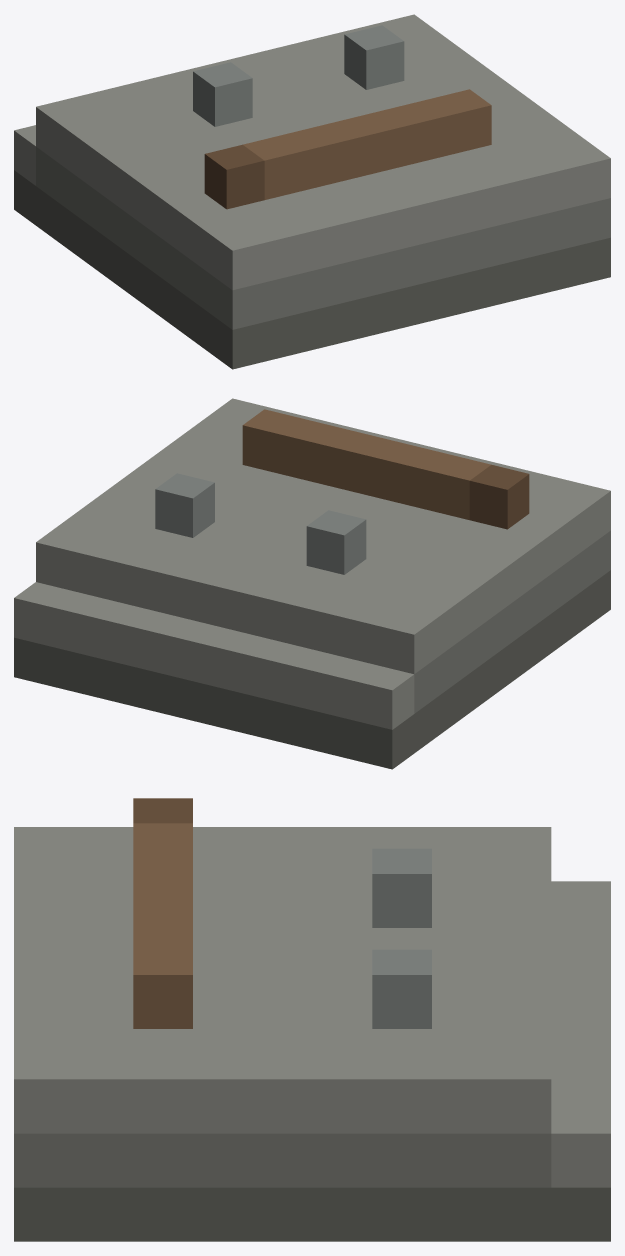
Rendered from Claude_concrete_foundation.glb.
3 renders of one model, top to bottom at view 1: azimuth 30°, elevation 25°; view 2: azimuth 150°, elevation 25°; view 3: azimuth 270°, elevation 25°, orthographic. The views are drawn at different scales.
Parts seen in each view (by area): view 1: Claude_concrete_foundation; view 2: Claude_concrete_foundation; view 3: Claude_concrete_foundation.
Boxes of the visible parts, <box> form: Claude_concrete_foundation: <box>14,14,610,369</box>; Claude_concrete_foundation: <box>14,398,610,769</box>; Claude_concrete_foundation: <box>14,798,610,1241</box>.
Size of the model in its own units: 1 by 0.4 by 1.
